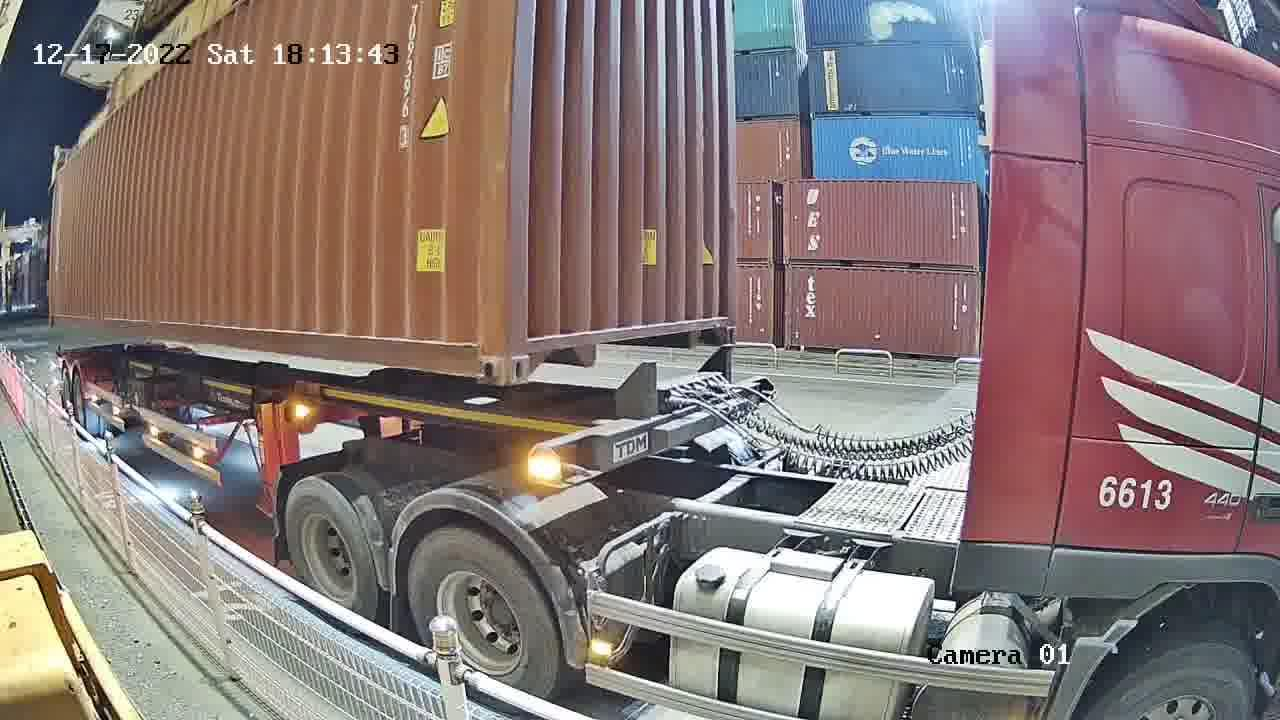Chassis: (525, 381, 775, 500)
Container: (505, 304, 739, 388)
Hole_L: (504, 316, 542, 389)
Hole_R: (453, 315, 507, 387), (714, 304, 737, 345)
Tire: (410, 534, 565, 703), (283, 482, 377, 617)
